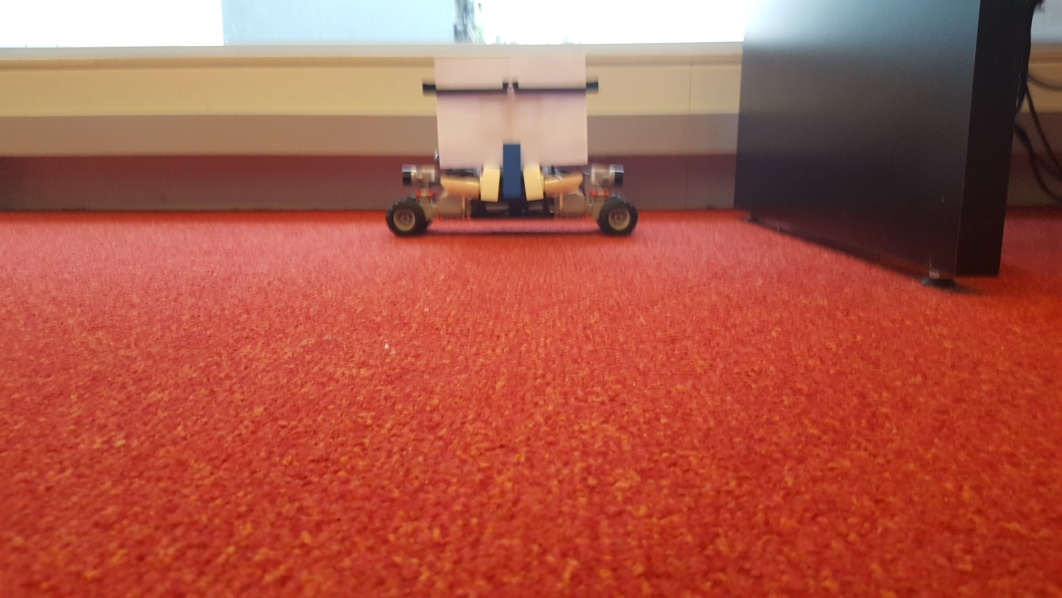car: (387, 53, 643, 240)
